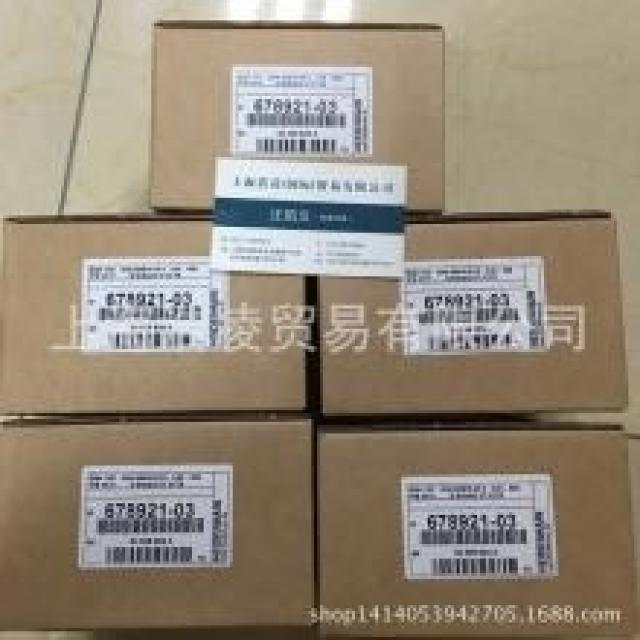Carton: (0, 422, 637, 628), (311, 209, 623, 413), (0, 215, 300, 416), (151, 20, 439, 212)
